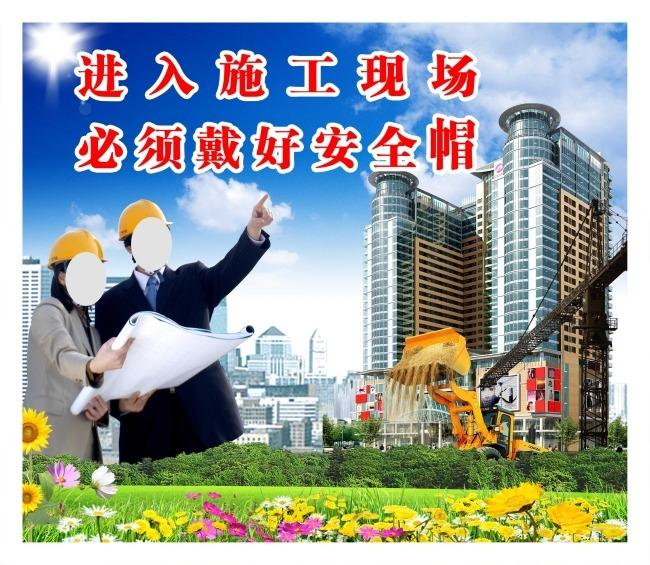helmet: (114, 199, 177, 241), (46, 228, 107, 269)
no_wear: (29, 305, 97, 455)
